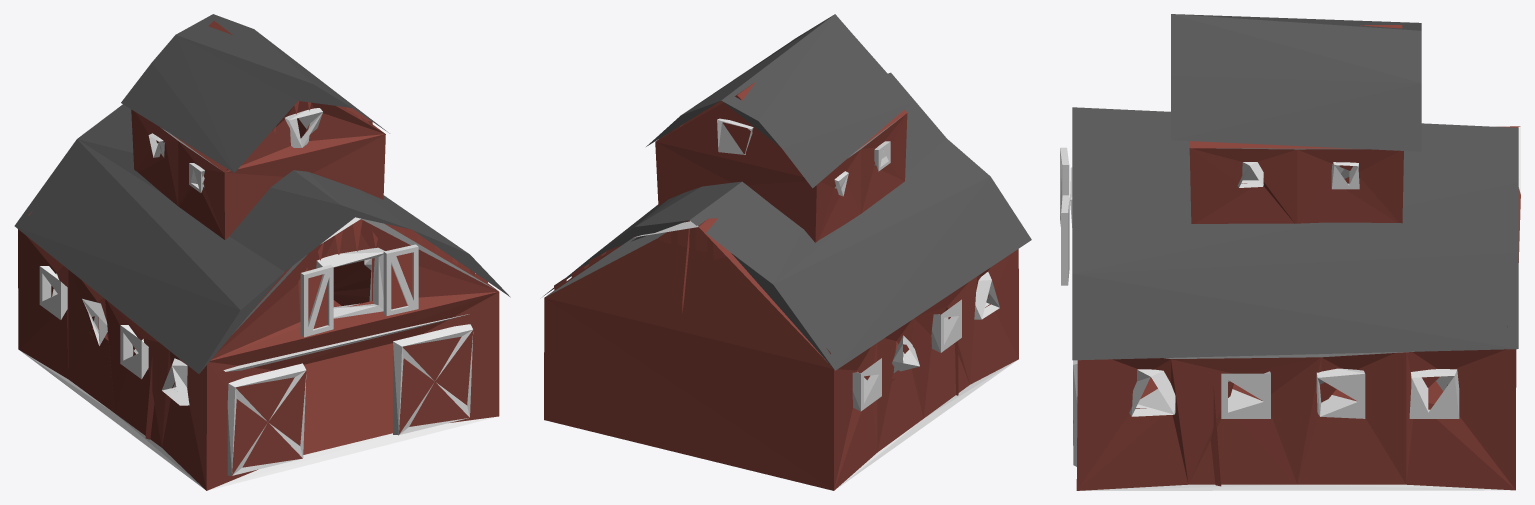
File: BigBarn.lod2.glb
The picture shows the model from 3 angles, left to right: view 1: azimuth 30°, elevation 25°; view 2: azimuth 150°, elevation 25°; view 3: azimuth 270°, elevation 25°; orthographic projection. The views are drawn at different scales.
Visible parts, largest first — view 1: BigBarn, BigBarn_Door, BigBarn_Door2, BigBarn_Window, BigBarn_Window2; view 2: BigBarn; view 3: BigBarn, BigBarn_Window, BigBarn_Window2, BigBarn_Door.
Part boxes in pixels (bbox=[...]): BigBarn: bbox=[14, 14, 510, 490]; BigBarn_Door: bbox=[393, 324, 473, 435]; BigBarn_Door2: bbox=[227, 363, 306, 475]; BigBarn_Window: bbox=[383, 244, 418, 315]; BigBarn_Window2: bbox=[300, 264, 333, 337]; BigBarn: bbox=[543, 14, 1031, 490]; BigBarn: bbox=[1070, 14, 1520, 490]; BigBarn_Window: bbox=[1061, 195, 1069, 285]; BigBarn_Window2: bbox=[1060, 147, 1069, 226]; BigBarn_Door: bbox=[1073, 360, 1077, 466].
Bounding box in the file's own units: 7.5 × 7.85 × 8.22.
